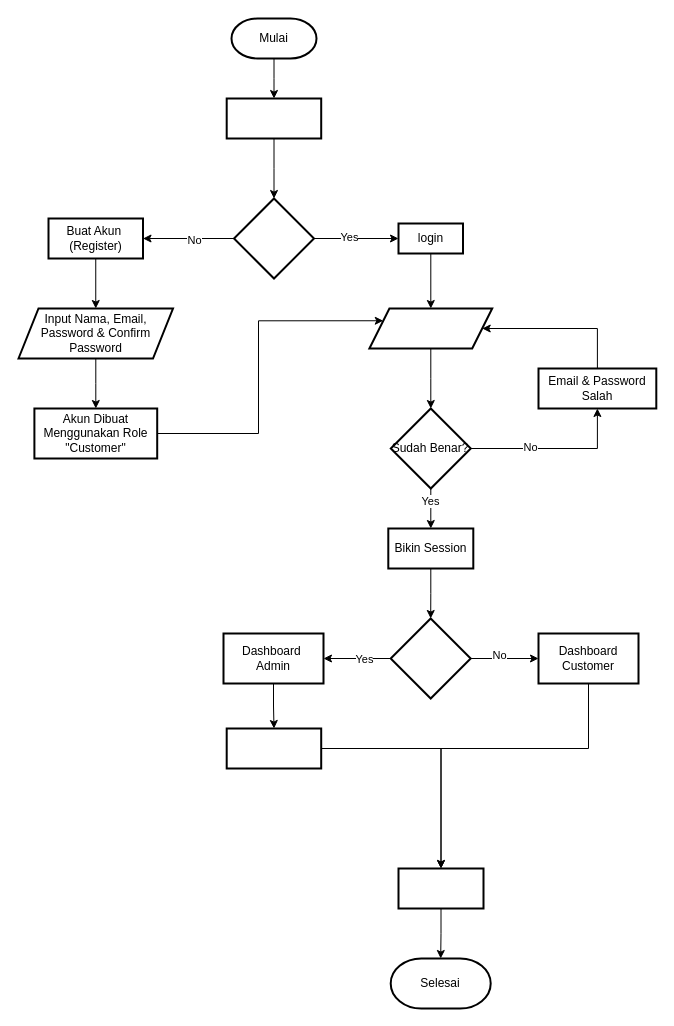
Image size: 674x1026. Some labels were removed from this diagram. The centre of each missing label's shape, as x and y in pixels:
"Buka Aplikasi" belongs at pixel 273 118.
"Input Email & Password" belongs at pixel 430 328.
"Kelola User" belongs at pixel 273 748.
"Logout" belongs at pixel 440 888.
"Punya Akun?" belongs at pixel 273 238.
"Role Admin?" belongs at pixel 430 658.
